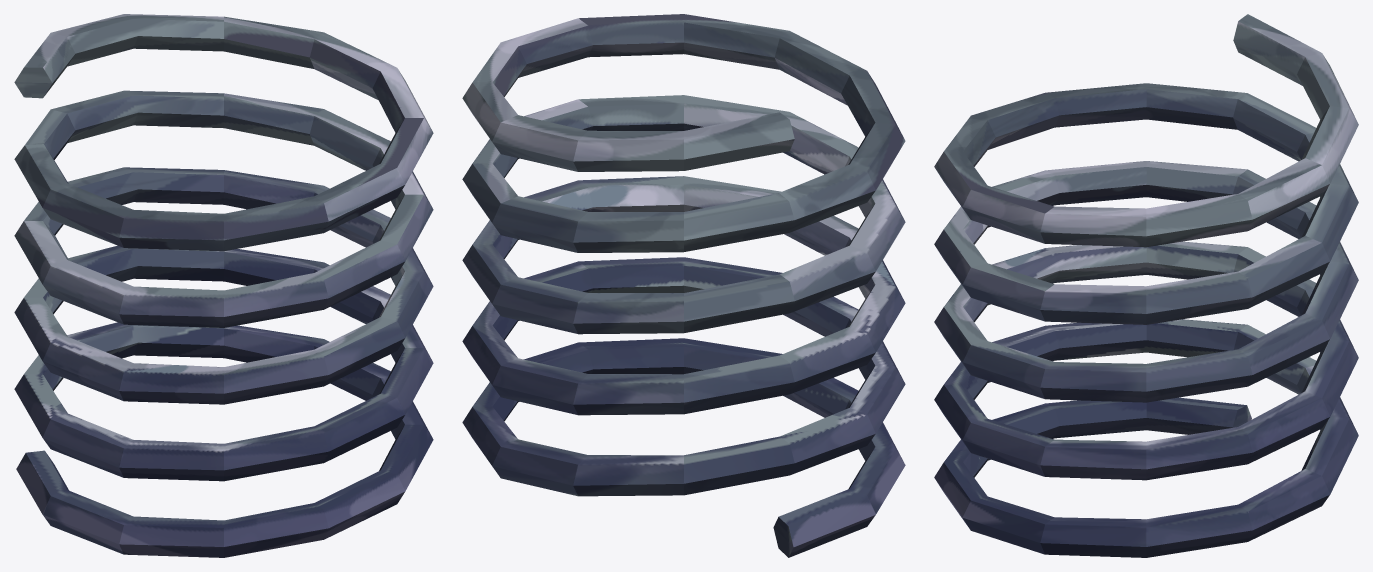
File: ressors.glb
The picture shows the model from 3 angles, left to right: view 1: azimuth 30°, elevation 25°; view 2: azimuth 150°, elevation 25°; view 3: azimuth 270°, elevation 25°; orthographic projection. The views are drawn at different scales.
Visible parts, largest first — view 1: Torus; view 2: Torus; view 3: Torus.
Part boxes in pixels (bbox=[...]): Torus: bbox=[14, 14, 433, 557]; Torus: bbox=[462, 14, 905, 557]; Torus: bbox=[934, 14, 1358, 557].
Size of the model in its own units: 1.49 by 1.63 by 1.49.
1 material, 1 textured.
